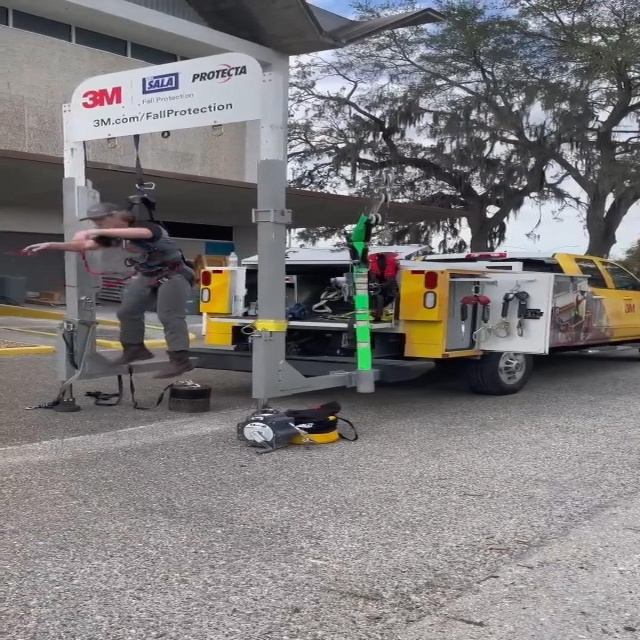Arnes_seguridad: (105, 185, 208, 299)
